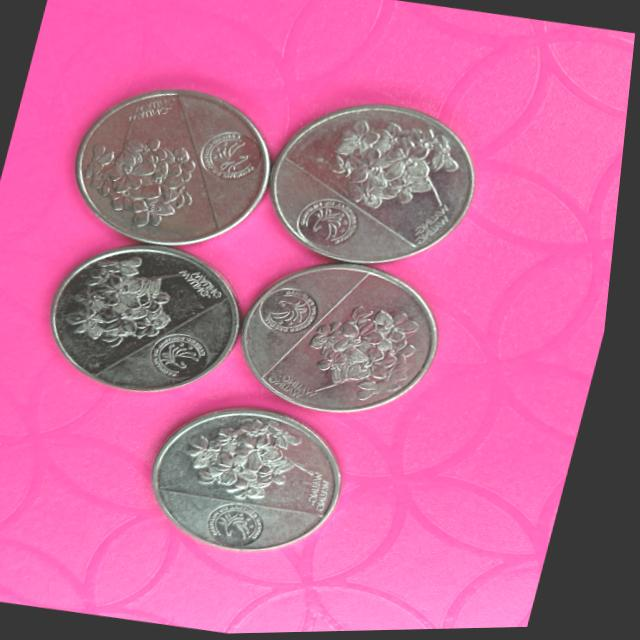1_New_Back: (322, 108, 480, 228), (187, 405, 342, 512), (64, 243, 204, 361), (307, 292, 442, 408), (78, 109, 204, 227)
